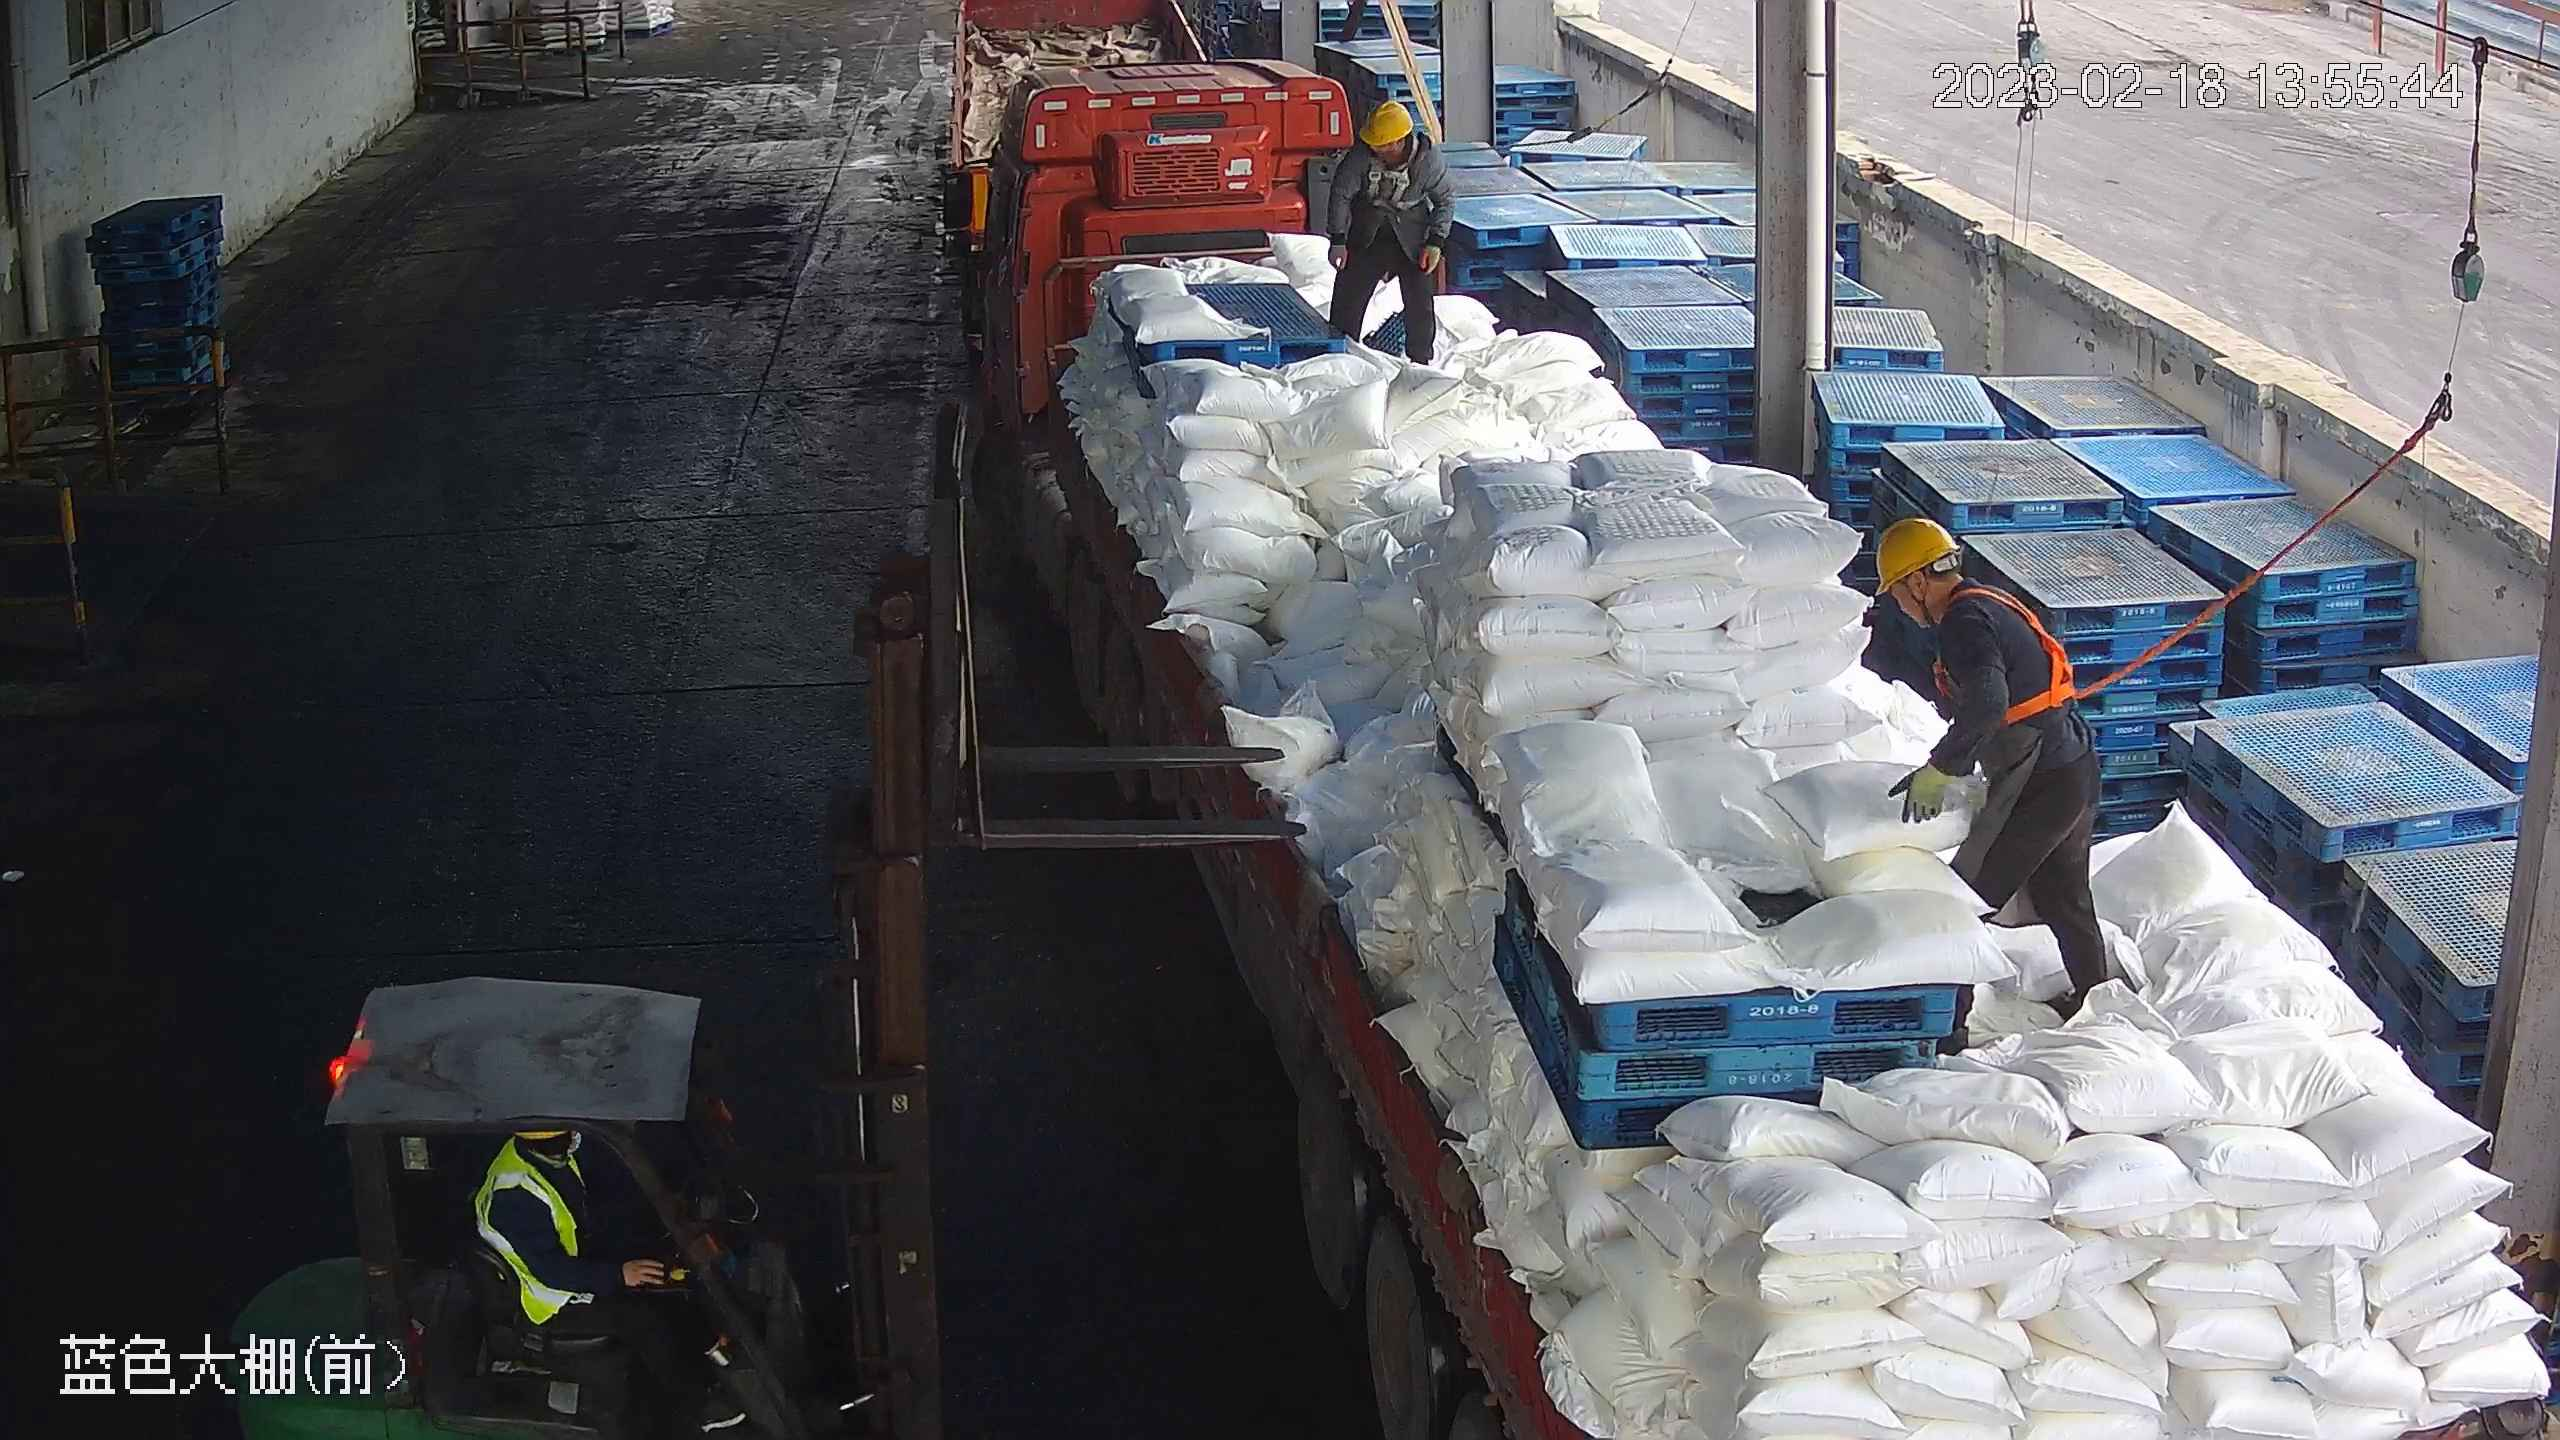belt: (1953, 579, 2097, 729), (1362, 151, 1421, 207)
head: (1872, 515, 2043, 659), (1343, 97, 1445, 180)
helmet: (1871, 513, 1962, 593), (1362, 97, 1416, 146)
people: (1870, 513, 2121, 1032), (474, 1123, 745, 1416), (1322, 98, 1457, 371)
truck: (944, 48, 2557, 1439)
